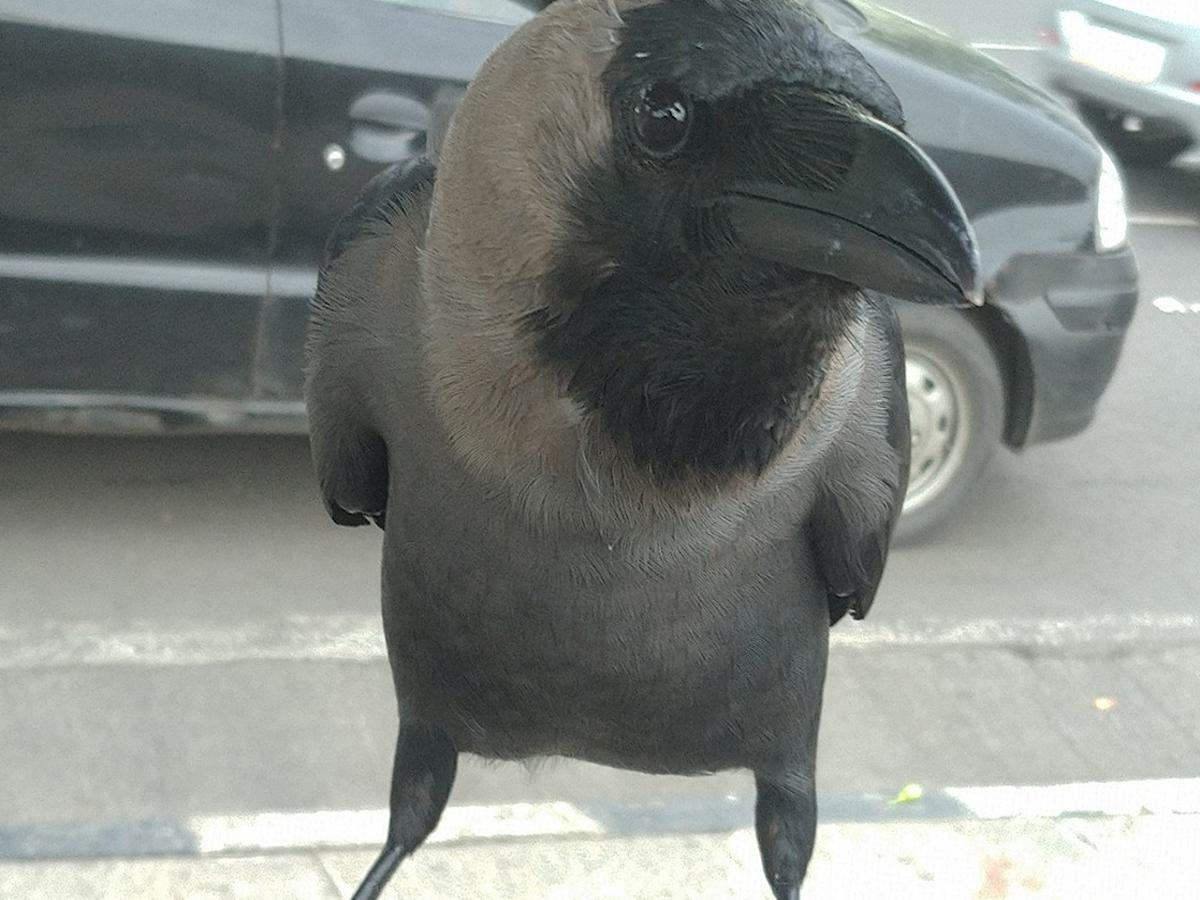crow: (296, 1, 990, 900)
